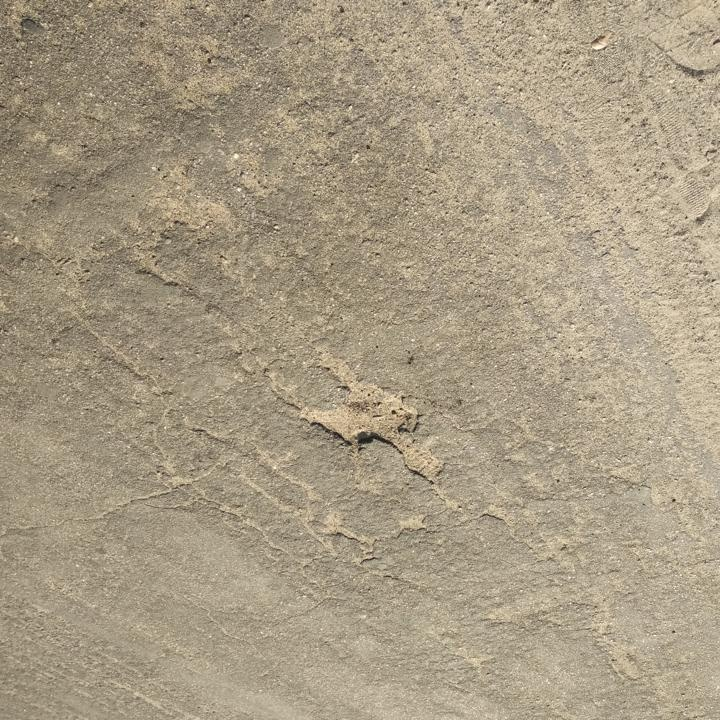pothole: (294, 379, 426, 450), (399, 450, 448, 486)
